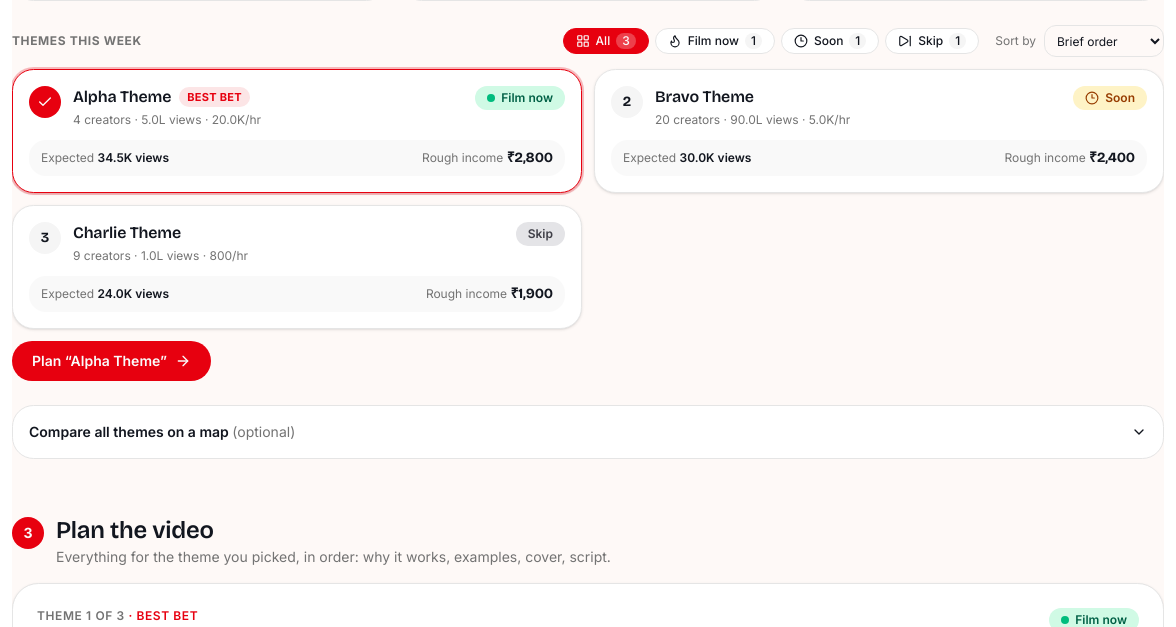
Test case: step 2: choosing a theme › the main button always names the selected theme, so the next step is obvious
(page scrolled)
Expected: the button "Plan “Alpha Theme”" is shown, [12,341,211,381]
Click the button "Charlie Theme".
click(45, 238)  # box [12,205,582,329]
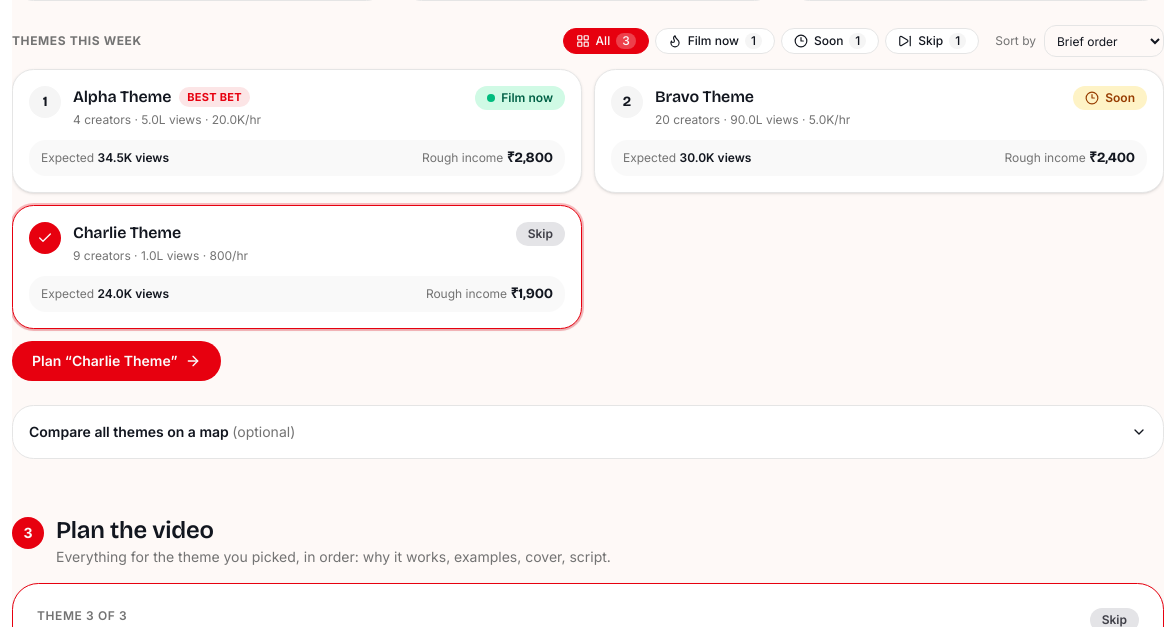
Expected: the button "Plan “Charlie Theme”" is shown, [12,341,222,381]
